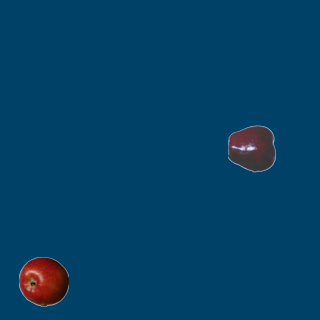Apple Braeburn: (18, 256, 68, 306)
Apple Red Delicious: (227, 123, 277, 173)
